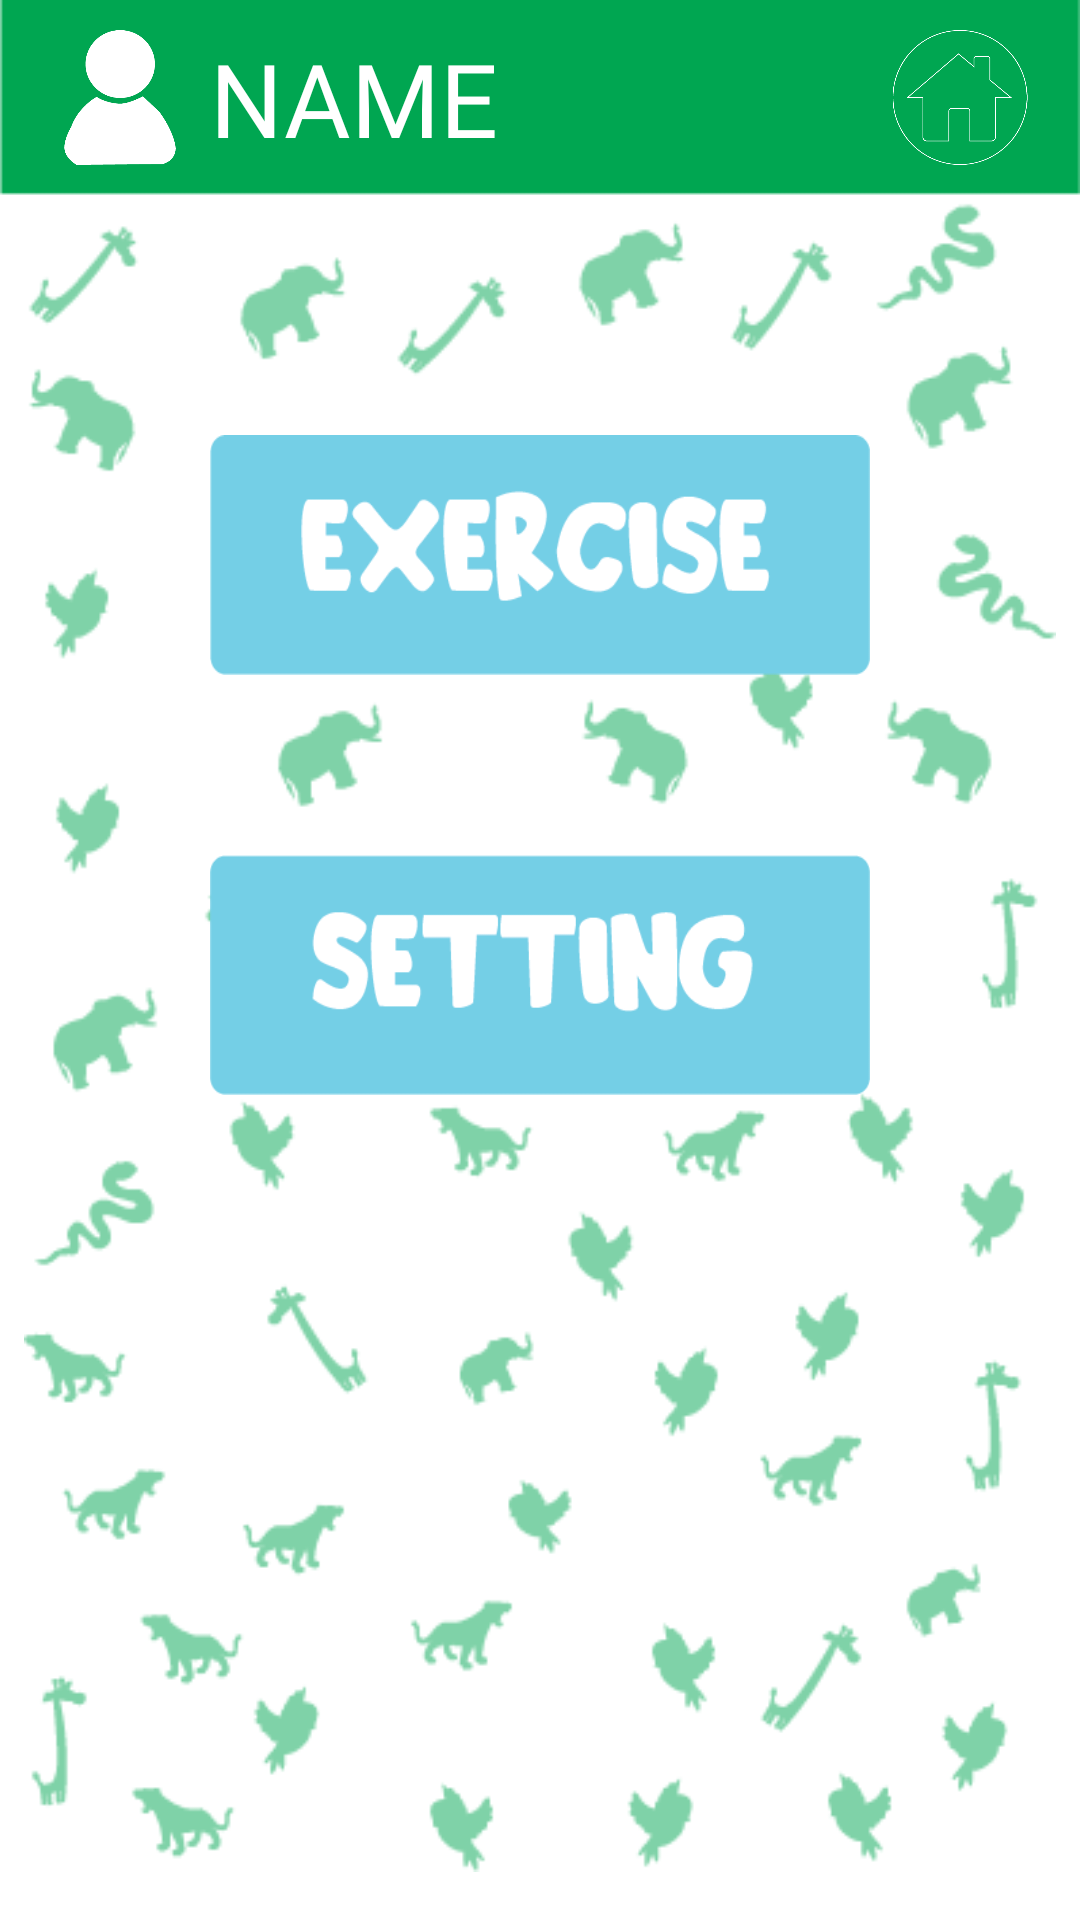

Where to tap for icons on this 1080px x 1920px app screen, as (x,y):
homepage: (960,97)
